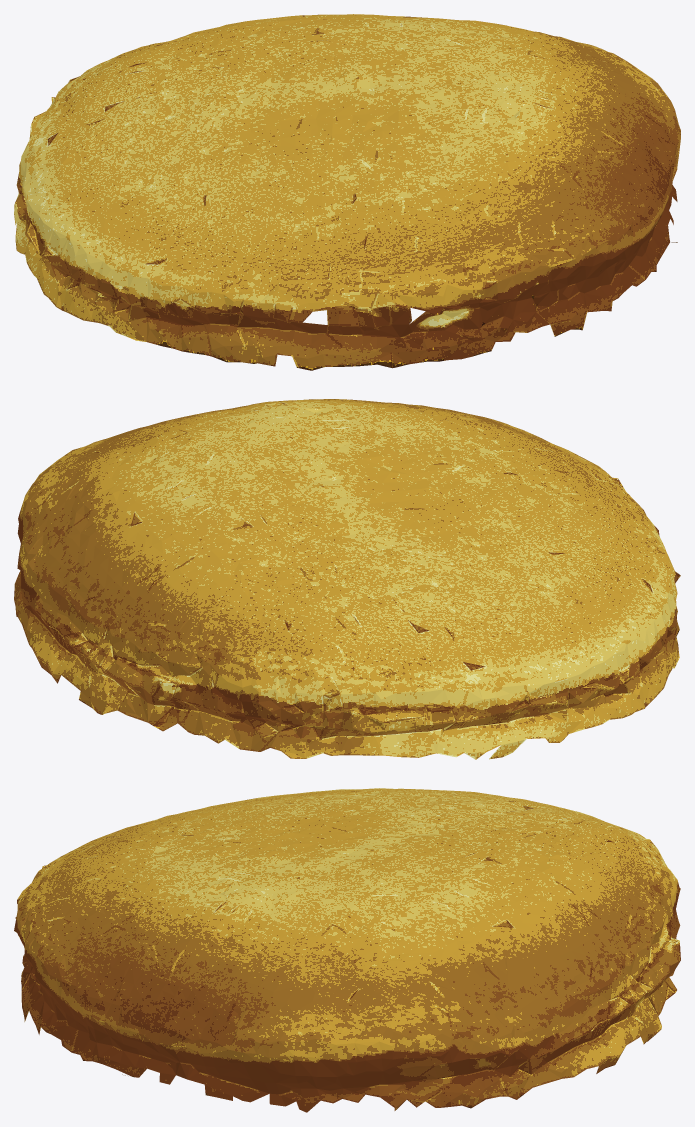
File: dorayaki.glb
3 views of the same model, one above another, from view 1: azimuth 30°, elevation 25°; view 2: azimuth 150°, elevation 25°; view 3: azimuth 270°, elevation 25° (orthographic). The views are drawn at different scales.
Visible parts, largest first — view 1: model_cake; view 2: model_cake; view 3: model_cake.
Boxes of the visible parts, x1,y1,x2,y2 form: model_cake: [14, 14, 680, 370]; model_cake: [14, 399, 680, 759]; model_cake: [14, 788, 680, 1112].
Bounding box in the file's own units: 88.07 × 22.52 × 84.3.
Materials: 1 (1 with a texture image).
